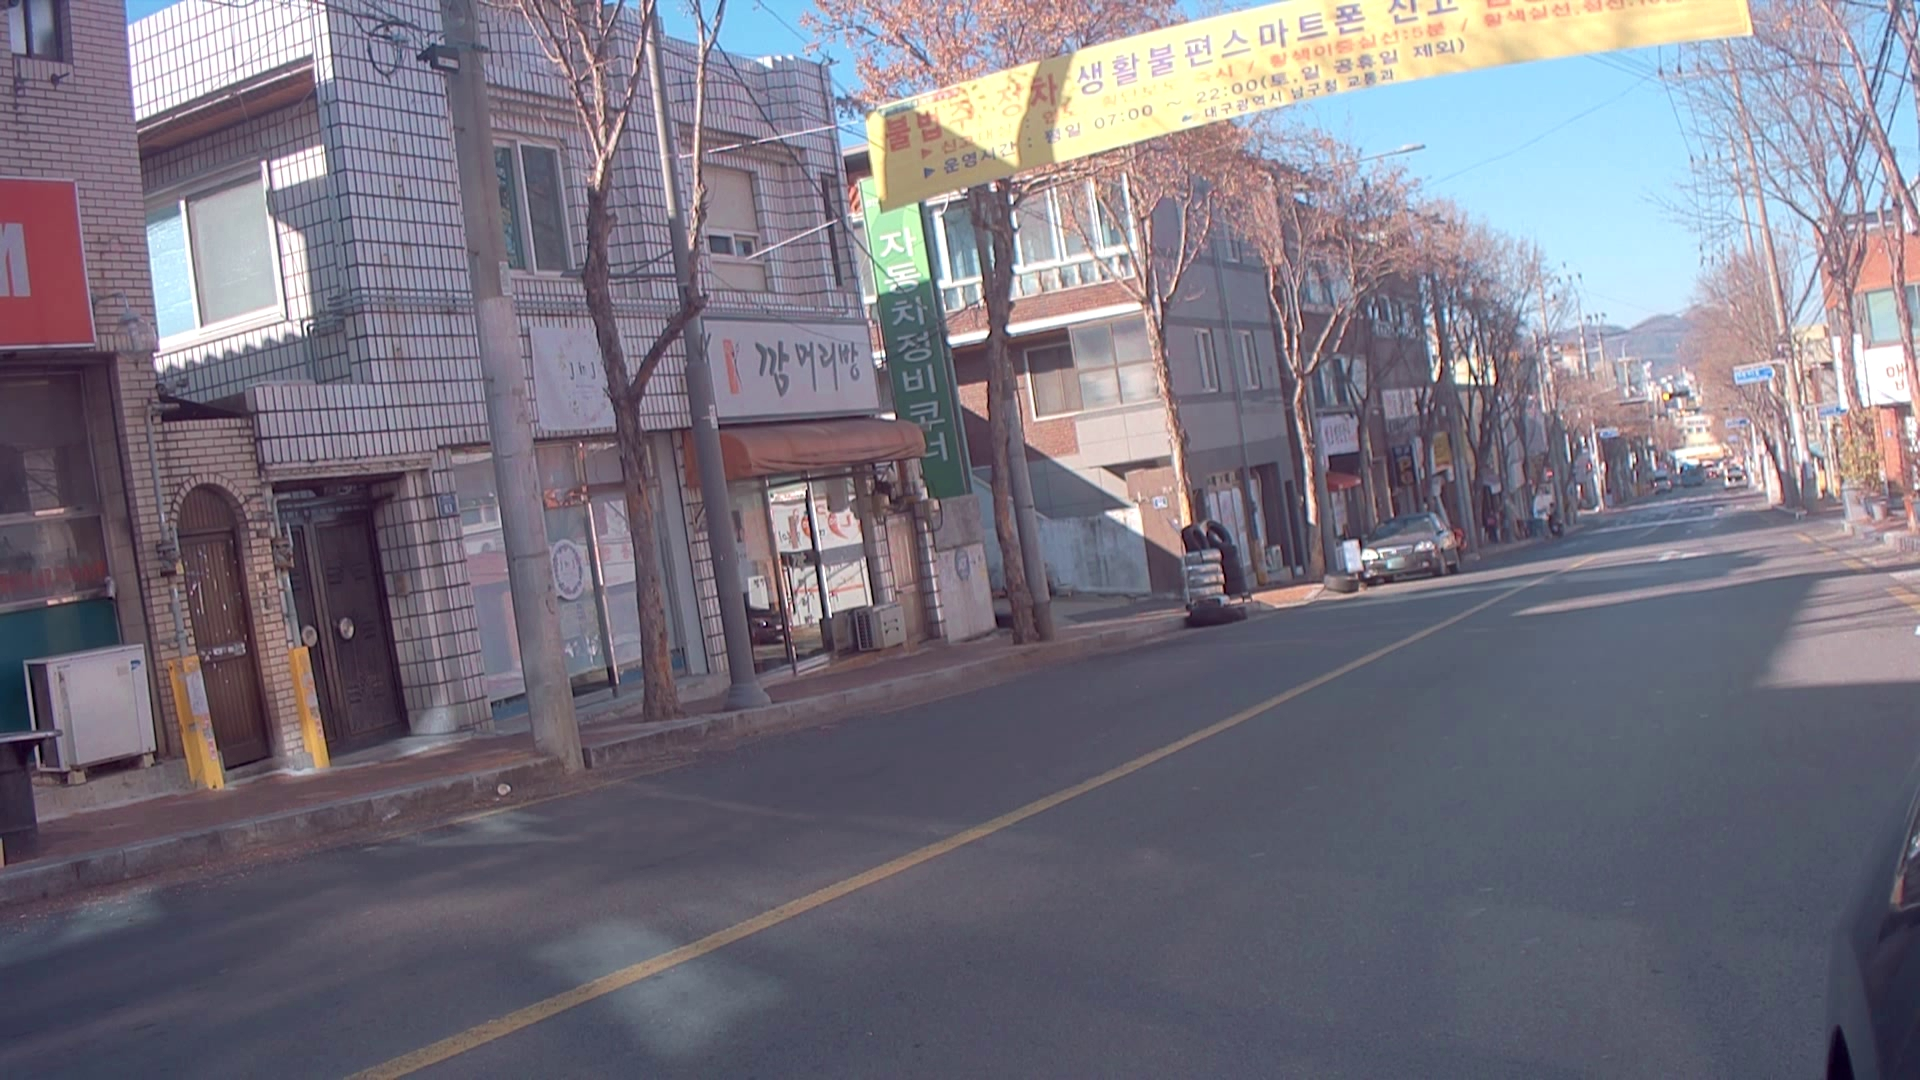trafficLight: (1656, 389, 1695, 401)
